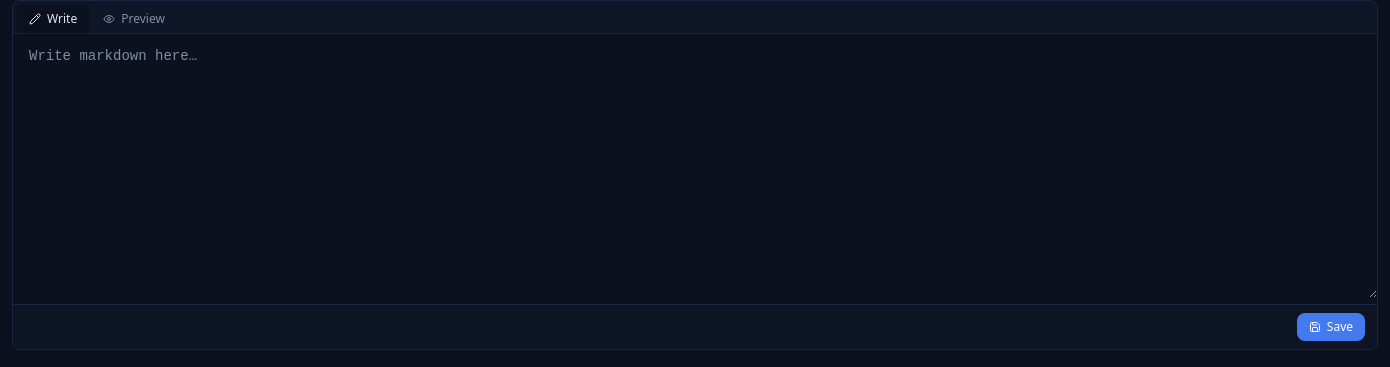
MarkdownEditorSurface — preview tab › shows "Nothing to preview" when draft is empty
Click the tab "Preview".
click(134, 19)  # box 91,5 -> 177,33
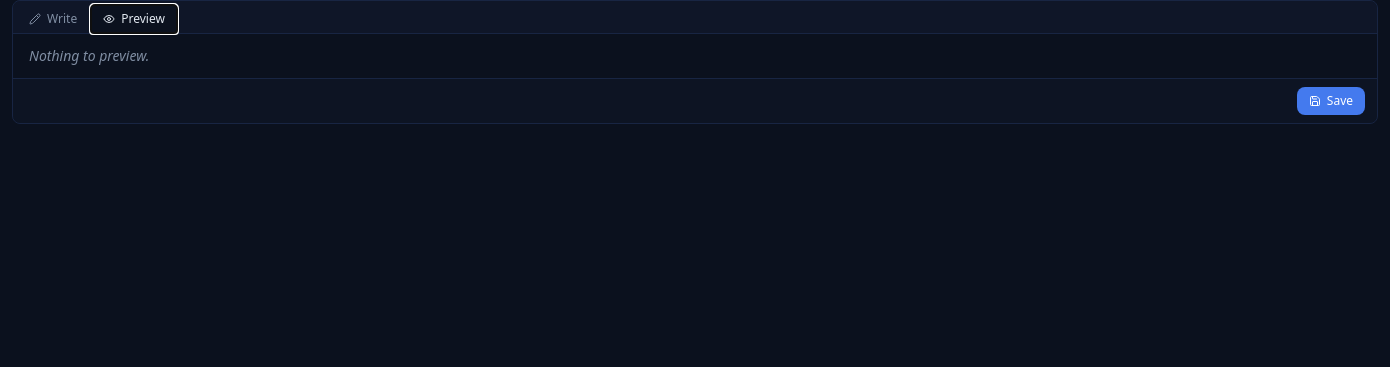
Result: the text "Nothing to preview." is shown at 29,46 -> 149,65
